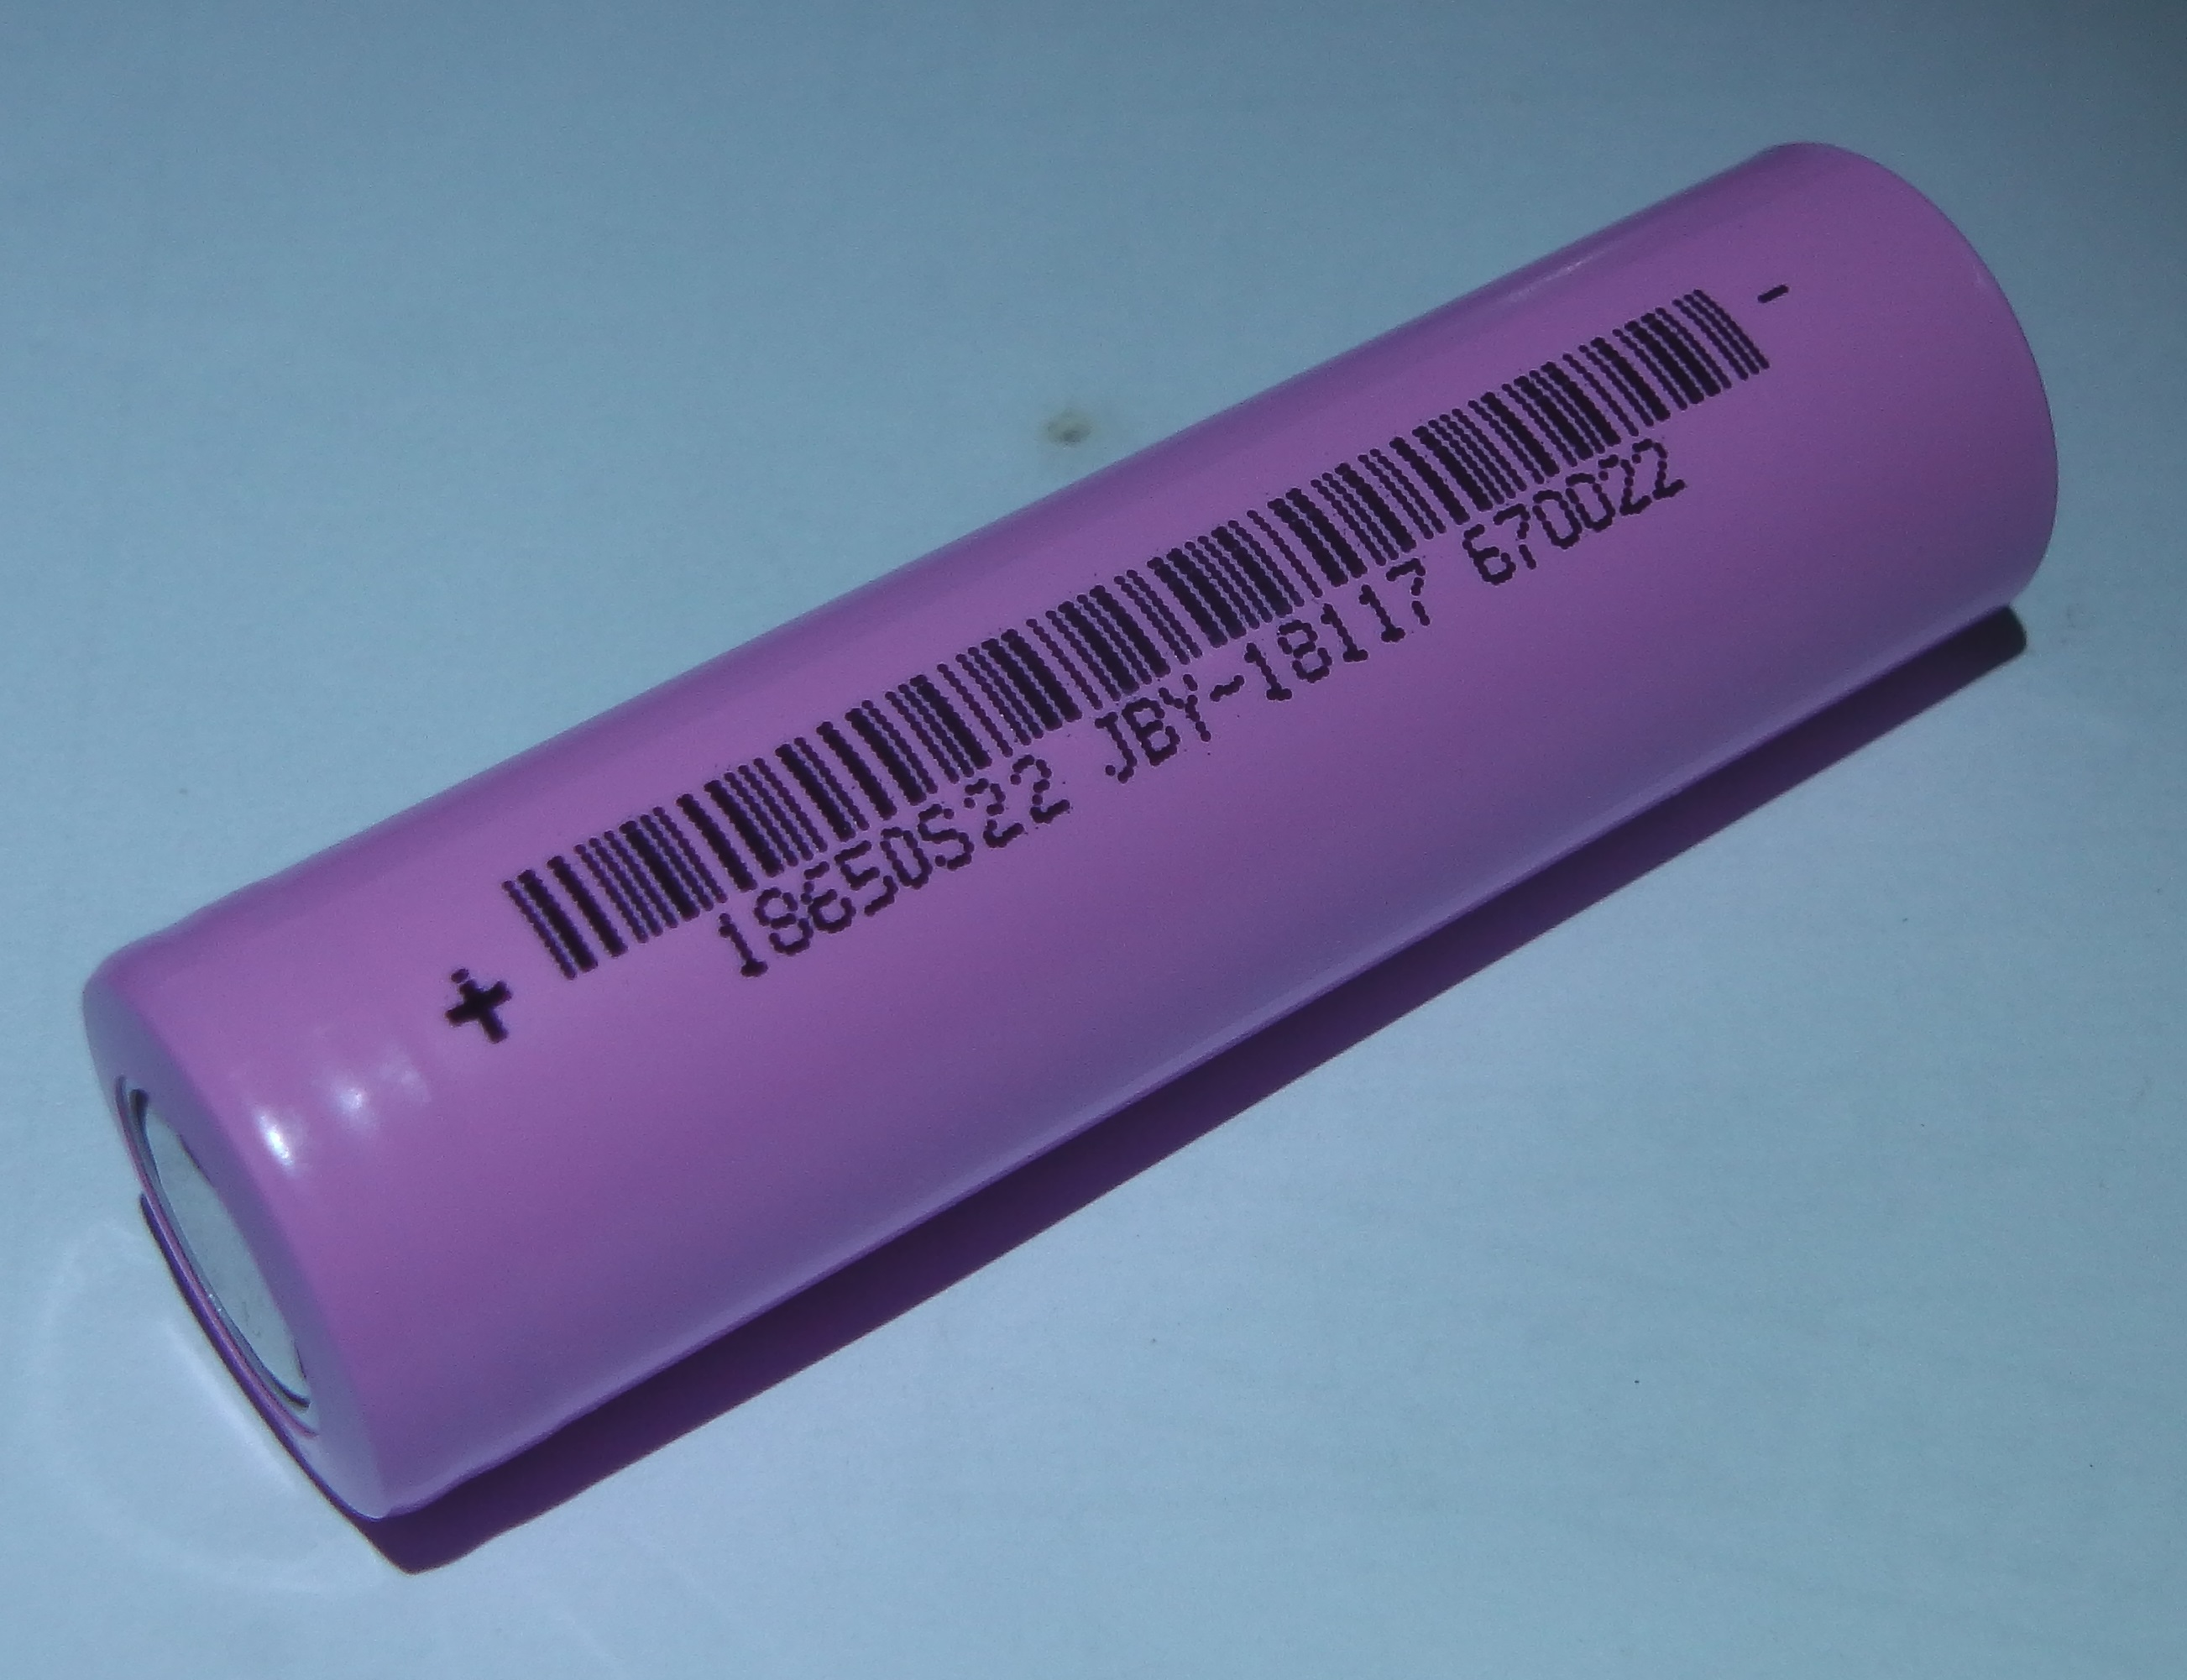Battery: (76, 129, 2074, 1541)
